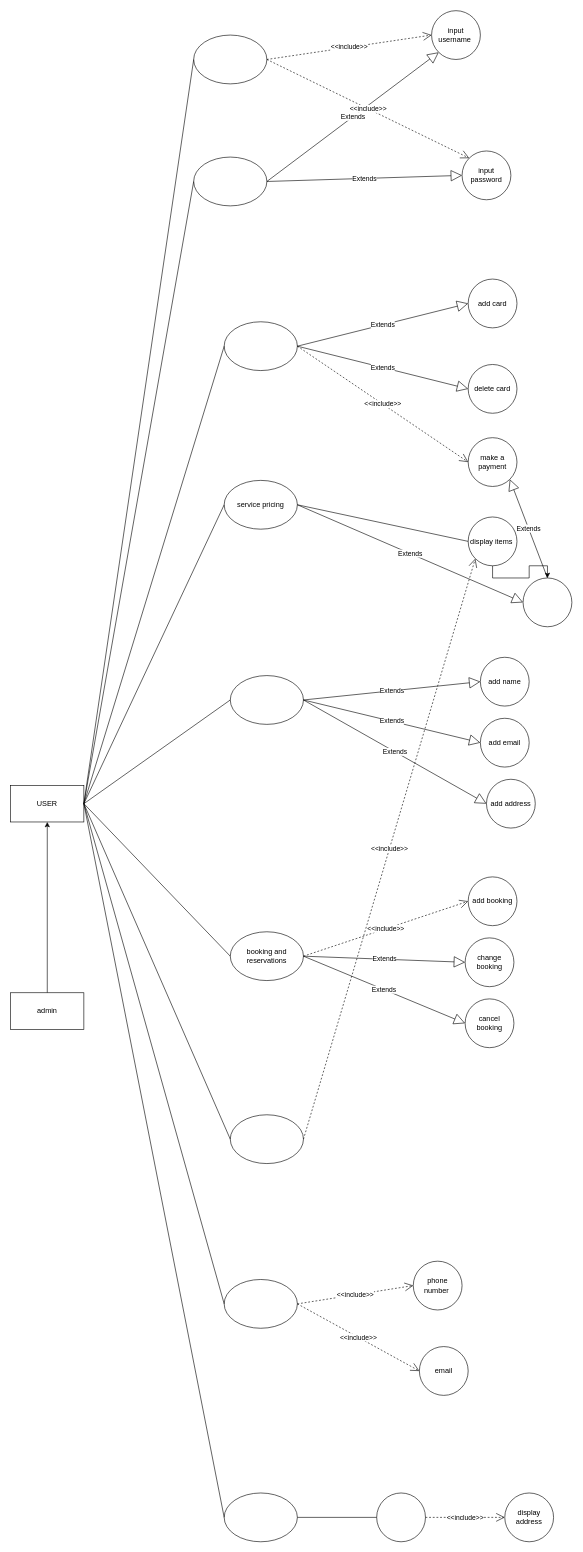
The diagram is 583 pixels wide and 1552 high, and some of its shapes have lost their labels. The shapes that lost their labels are listed below. From the top down, each one's box as (x1, y1, x2, y2) in pixels, then its label:
(193, 34, 267, 84): log in
(193, 156, 267, 206): sign up
(224, 321, 297, 371): billing and payments
(522, 577, 572, 627): display price
(230, 675, 303, 724): manage client info
(230, 1114, 303, 1164): online store
(224, 1279, 297, 1328): contact us
(224, 1492, 297, 1542): locations
(376, 1492, 425, 1542): choose store
